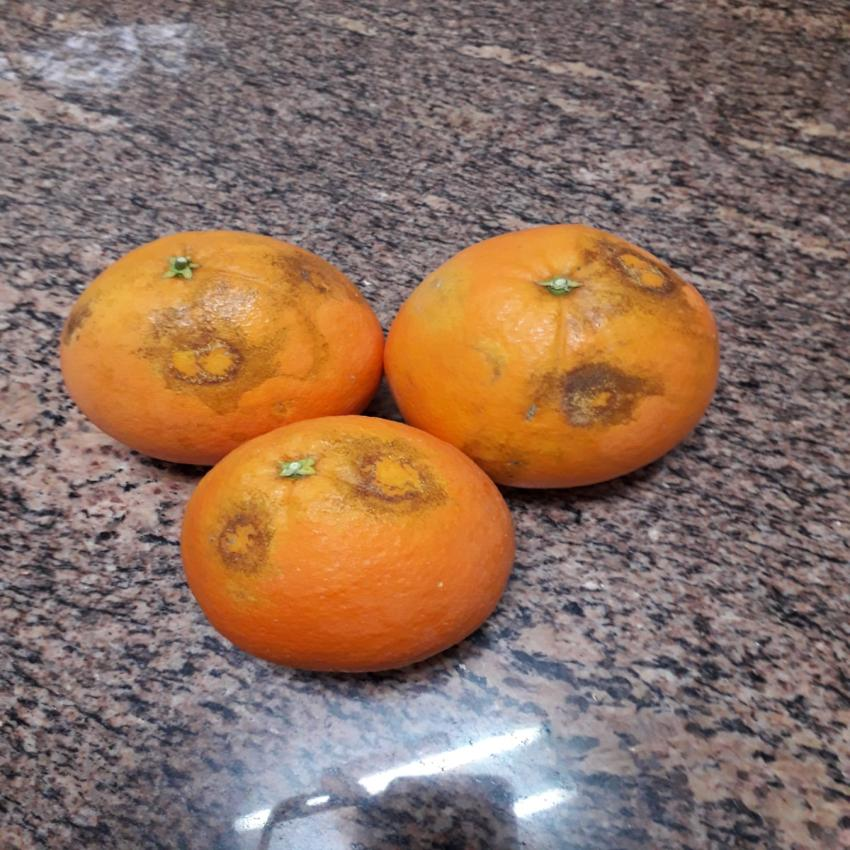Mal estado: (373, 208, 738, 496), (159, 412, 546, 669), (51, 217, 392, 456)
